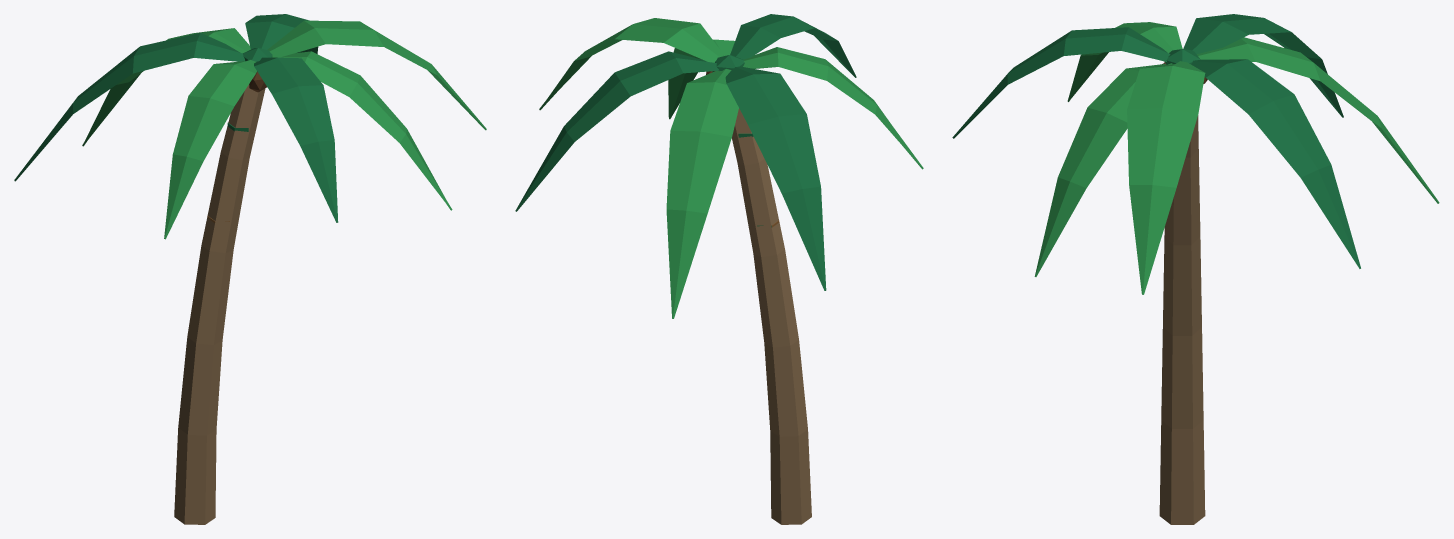
Rendered from Palmera A.fbx.
3 renders of one model, left to right at view 1: azimuth 30°, elevation 25°; view 2: azimuth 150°, elevation 25°; view 3: azimuth 270°, elevation 25°, orthographic. The views are drawn at different scales.
Visible parts, largest first — view 1: Palmera A; view 2: Palmera A; view 3: Palmera A.
Boxes of the visible parts, box(x1,y1,x2,y2) form: Palmera A: box(14, 14, 486, 524); Palmera A: box(515, 14, 923, 524); Palmera A: box(952, 14, 1439, 524).
Size of the model in its own units: 1.81 by 2.11 by 1.81.
